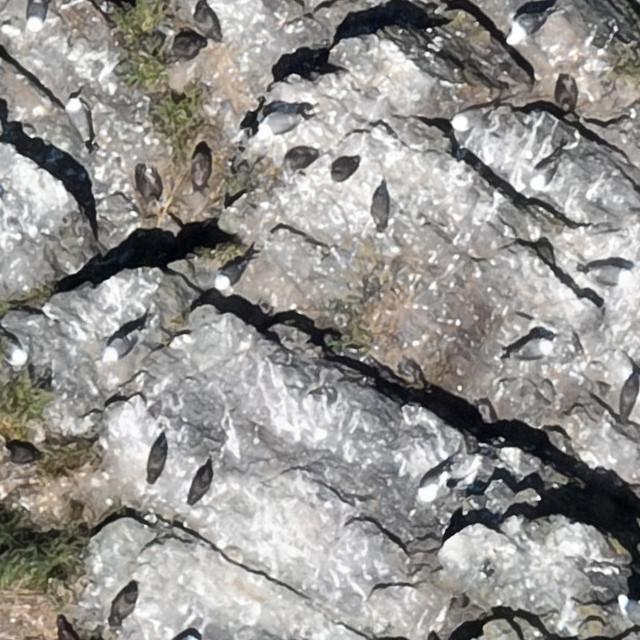umineko: (509, 9, 553, 45), (64, 93, 93, 147), (257, 111, 304, 140), (212, 256, 252, 289), (101, 330, 141, 363), (414, 464, 448, 502), (532, 150, 564, 189), (583, 261, 631, 284), (1, 332, 30, 366), (512, 340, 548, 358), (455, 110, 486, 130), (621, 598, 640, 623), (28, 1, 44, 27)
